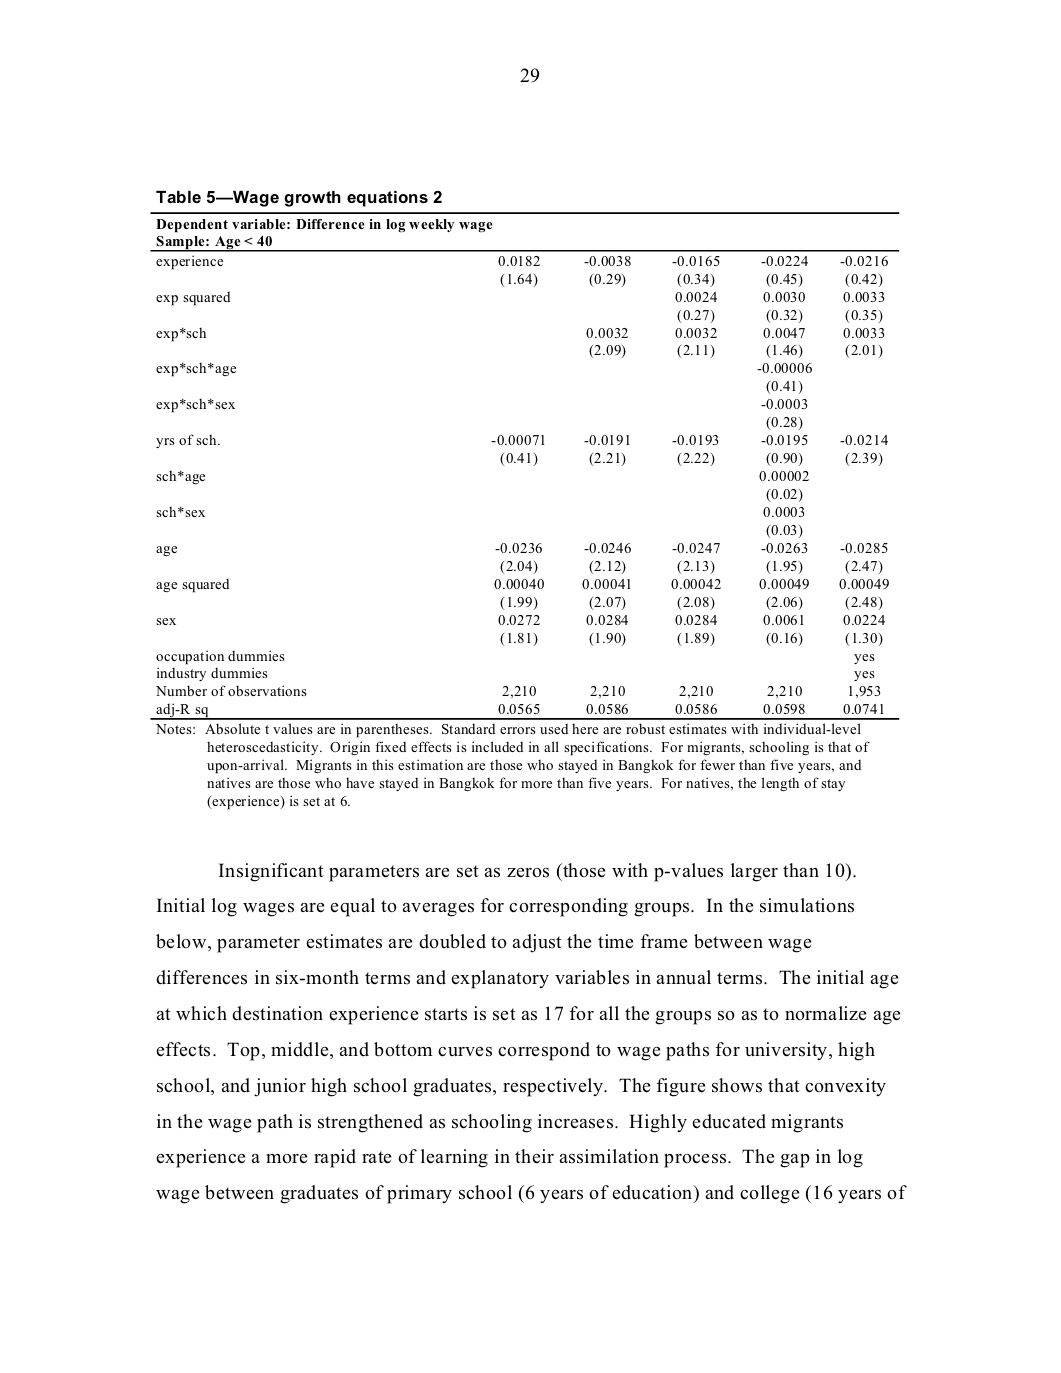Table: (150, 212, 899, 719)
